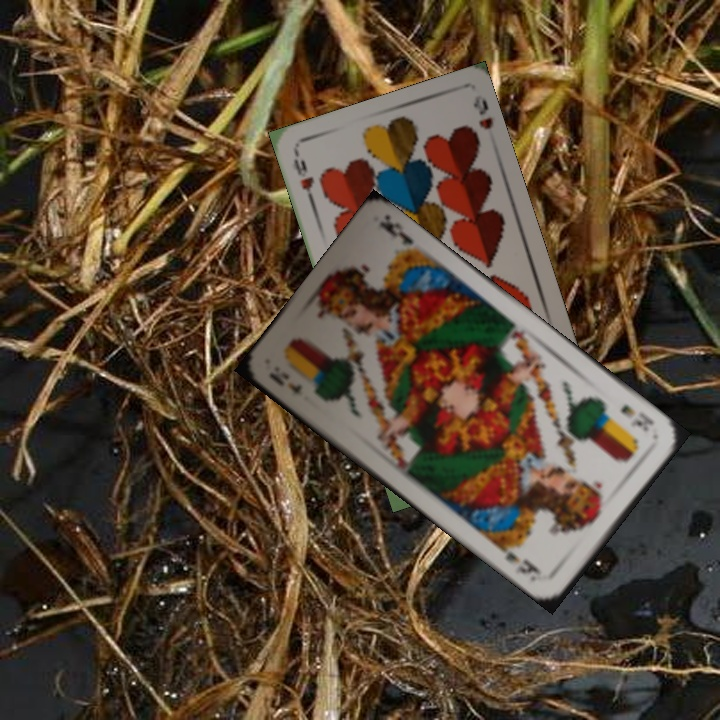EK: (616, 400, 657, 434), (264, 367, 305, 395)
H9: (289, 148, 317, 206)
